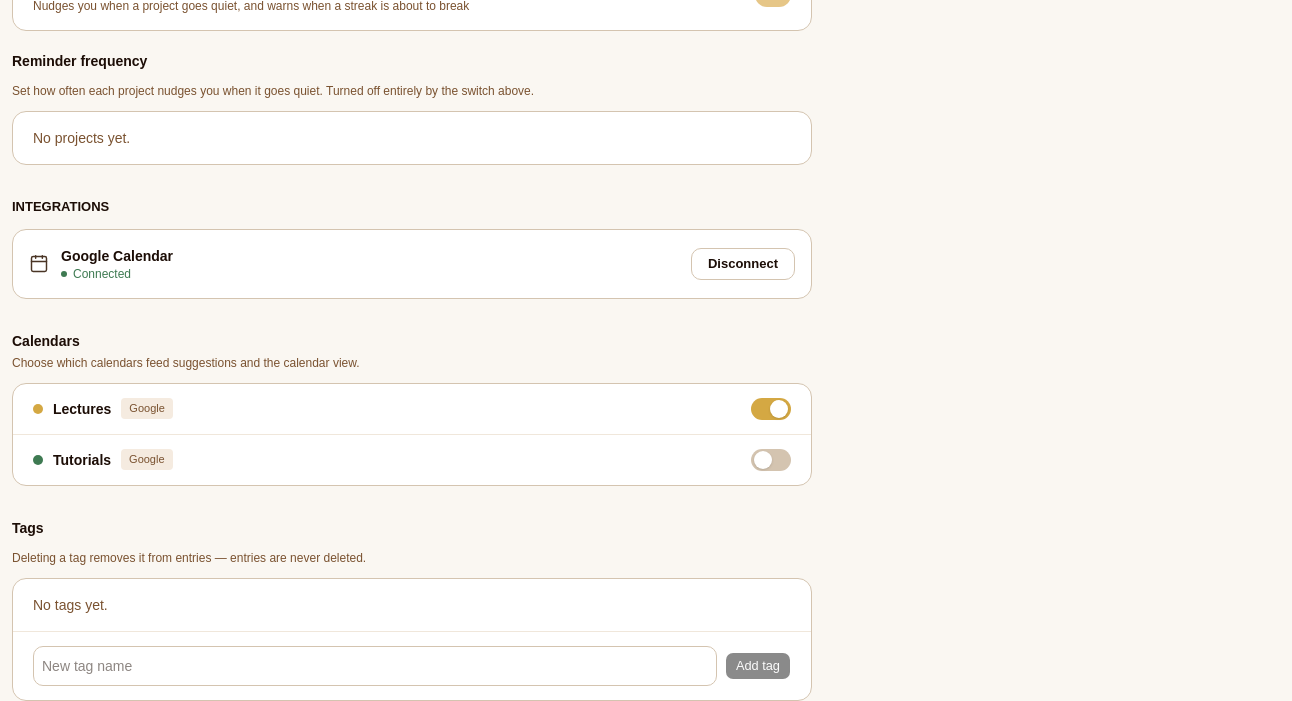
Test: Calendar sources › puts the switch back if the change fails
(page scrolled)
Click the switch named "Use the Tutorials calendar".
click(771, 460)  # box left=751, top=448, right=791, bottom=470
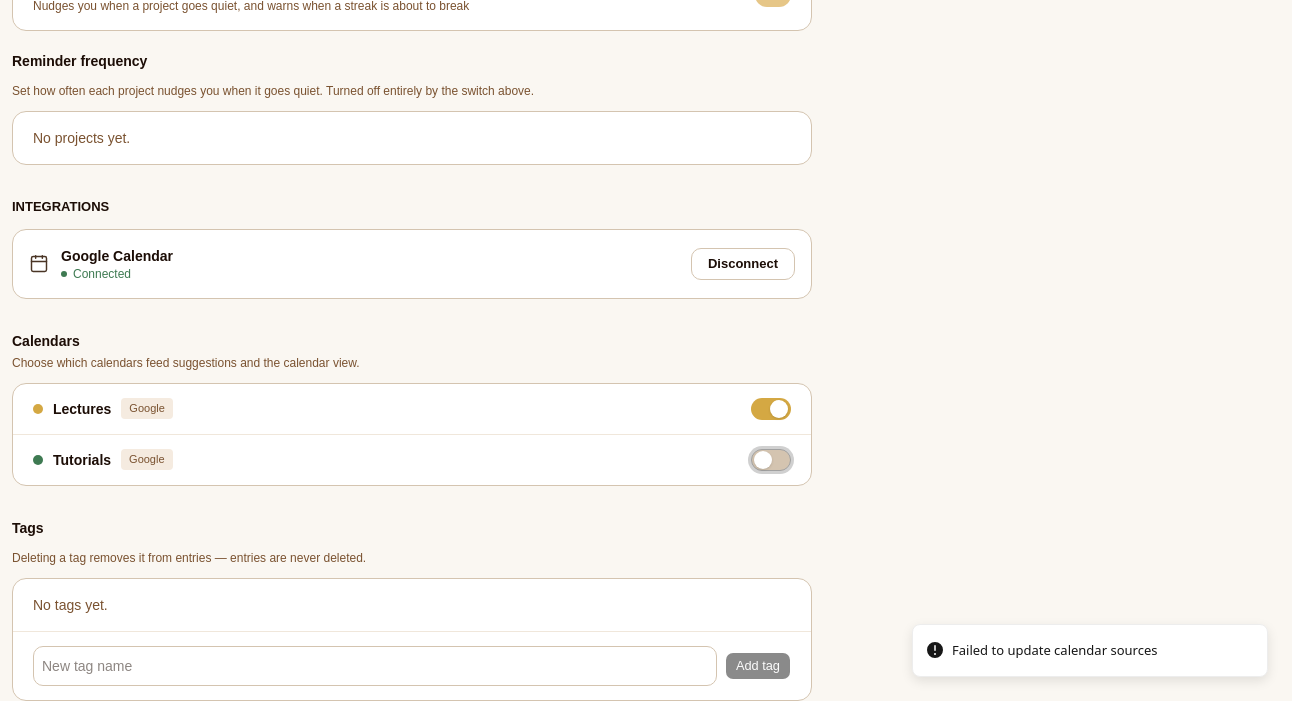
Check: the text "Failed to update calendar sources" is shown, box left=952, top=640, right=1158, bottom=660
